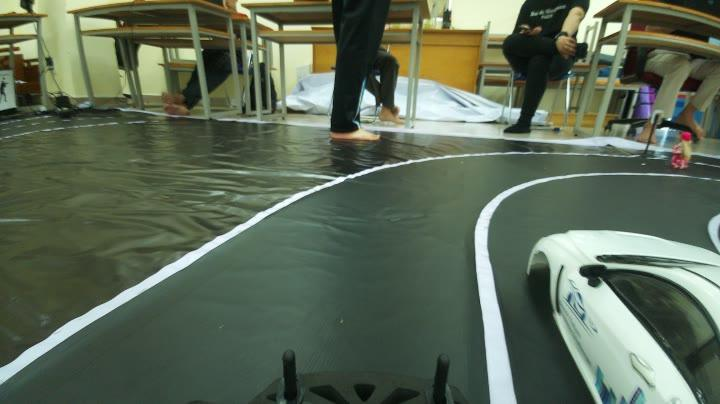car: (526, 196, 720, 404)
